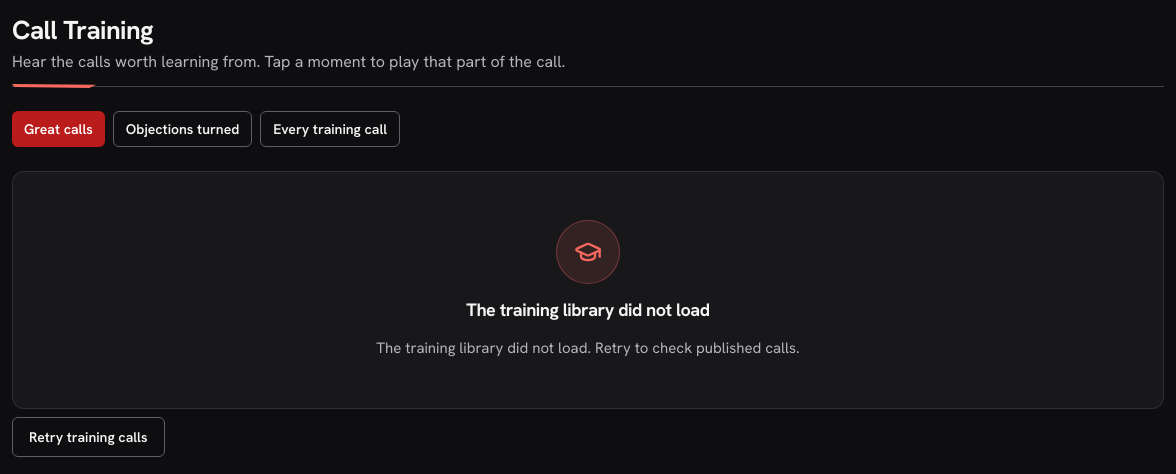
published training library › keeps a malformed catalog retryable instead of showing a verified empty library: null
Expected: the heading "The training library did not load" is shown, x1=466 y1=296 x2=710 y2=324
Step 1. Click the button "Retry training calls" → (88, 437), box x1=12 y1=417 x2=164 y2=457
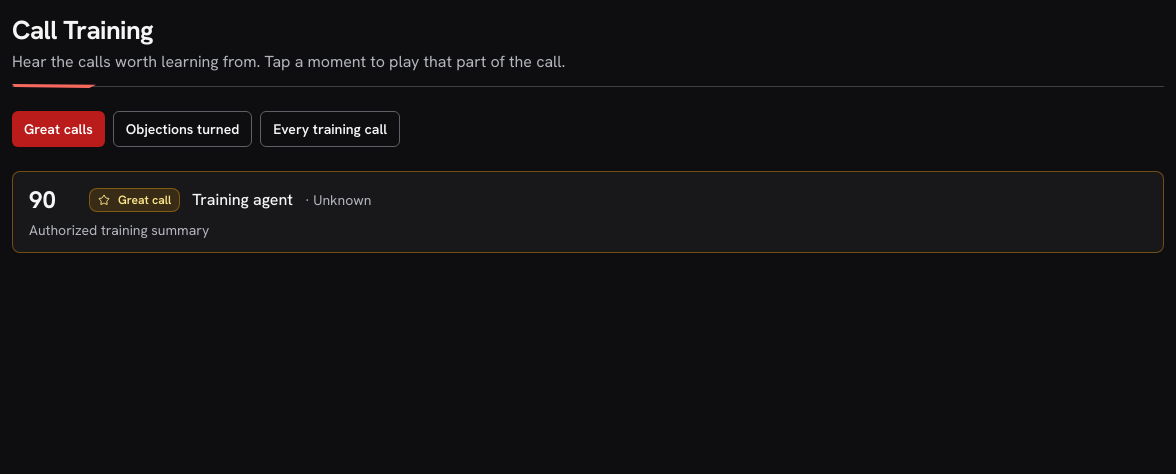
Now the text "Authorized training summary" is shown, box x1=29 y1=221 x2=209 y2=239
